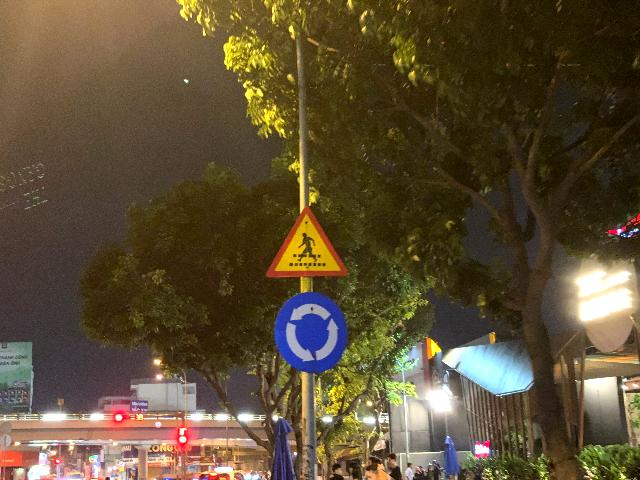duong-nguoi-di-bo-cat-ngang: (265, 205, 349, 276)
noi-giao-nhau-chay-theo-vong-xuyen: (274, 292, 348, 374)
